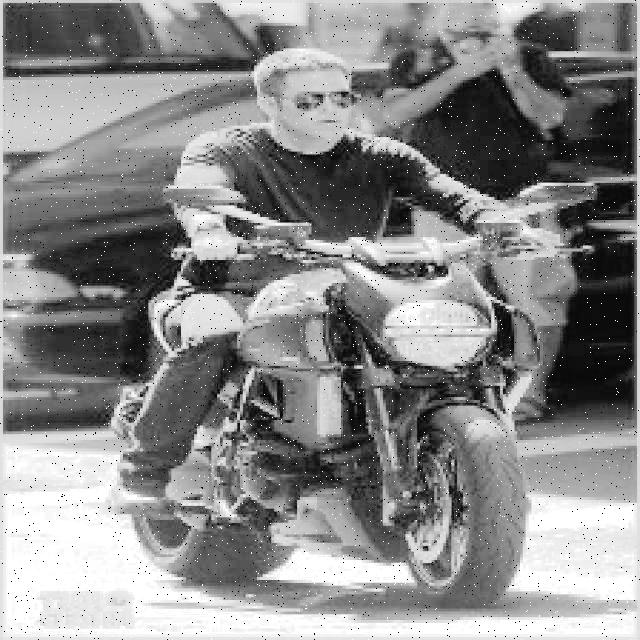Bike: (112, 213, 553, 609)
